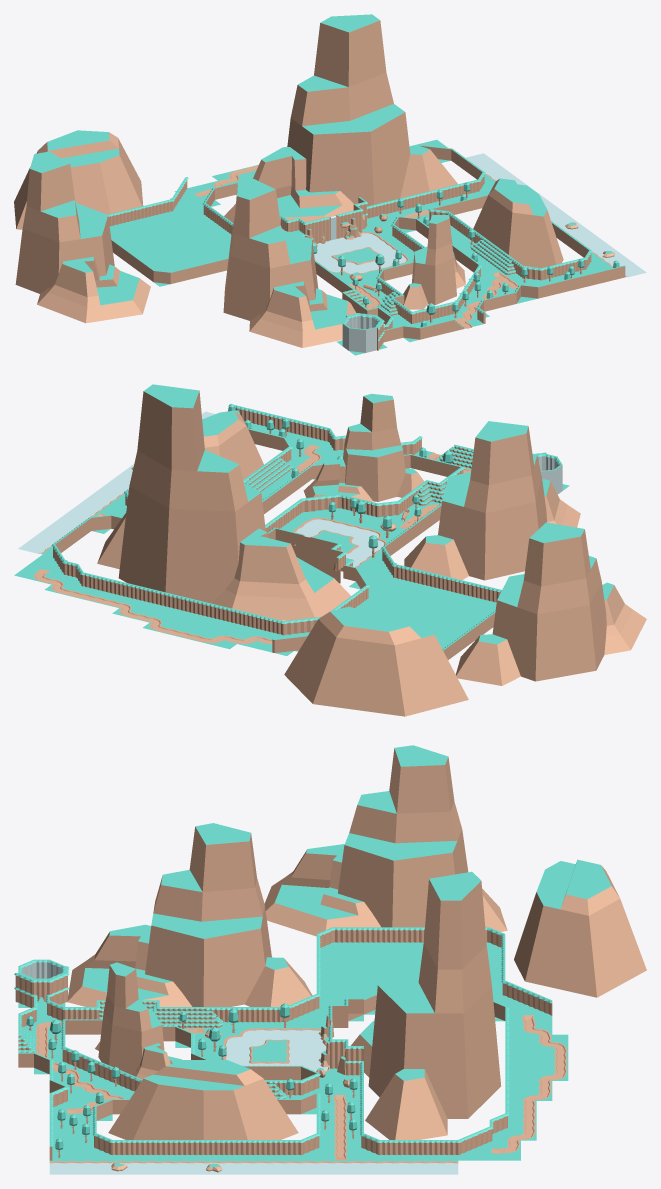
File: area_202501281633.fbx
3 views of the same model, one above another, from view 1: azimuth 30°, elevation 25°; view 2: azimuth 150°, elevation 25°; view 3: azimuth 270°, elevation 25° (orthographic). The views are drawn at different scales.
Parts seen in each view (by area): view 1: cliff_topDiagonal_rock40; view 2: cliff_topDiagonal_rock40; view 3: cliff_topDiagonal_rock40.
Boxes of the visible parts, x1,y1,x2,y2 form: cliff_topDiagonal_rock40: (14,14,646,355); cliff_topDiagonal_rock40: (14,384,646,716); cliff_topDiagonal_rock40: (14,745,646,1174).
Size of the model in its own units: 451 by 155 by 403.
